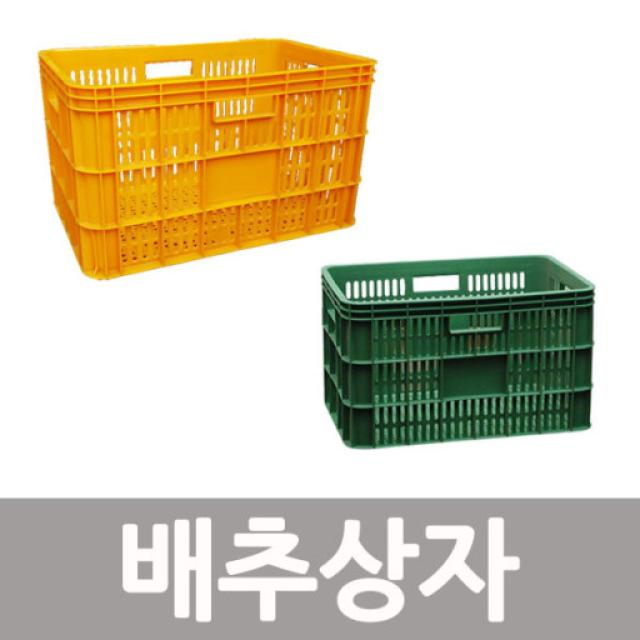basket: (38, 35, 385, 281), (318, 252, 604, 451)
